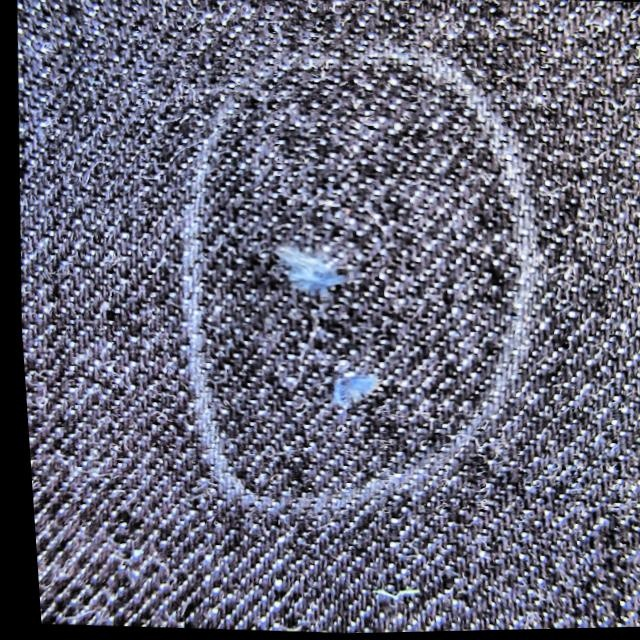Hole: (248, 222, 371, 316), (301, 351, 410, 428)
